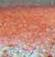plaque psoriasis: (0, 43, 55, 57)
